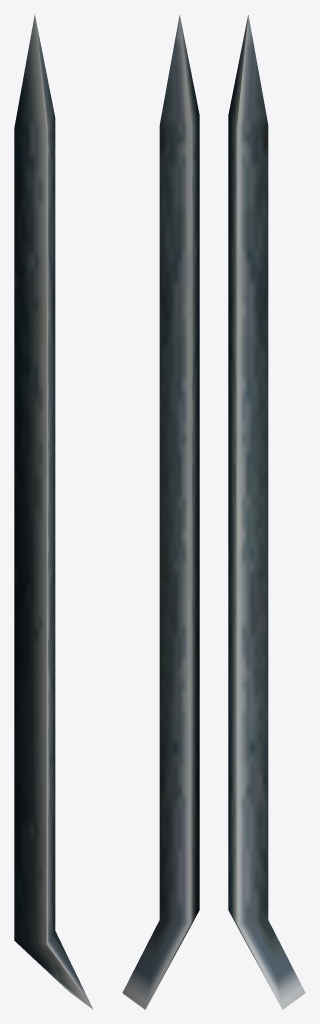
The model's file is m_lom1.glb.
3 renders of one model, left to right at view 1: azimuth 30°, elevation 25°; view 2: azimuth 210°, elevation 25°; view 3: azimuth 330°, elevation 25°, orthographic. The views are drawn at different scales.
Visible parts, largest first — view 1: m_lom1-col; view 2: m_lom1-col; view 3: m_lom1-col.
Boxes of the visible parts, x1,y1,x2,y2 form: m_lom1-col: (14,14,93,1009); m_lom1-col: (122,15,199,1009); m_lom1-col: (228,15,305,1009).
Bounding box in the file's own units: 0.0823 × 1.17 × 0.0501.
Materials: 1 (1 with a texture image).
